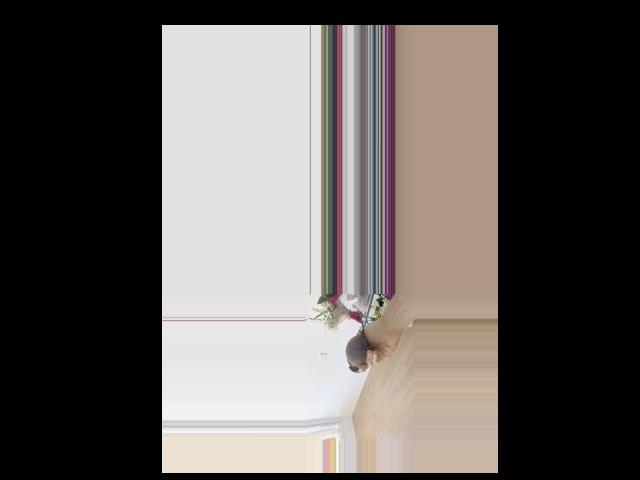beet: (345, 306, 369, 373)
